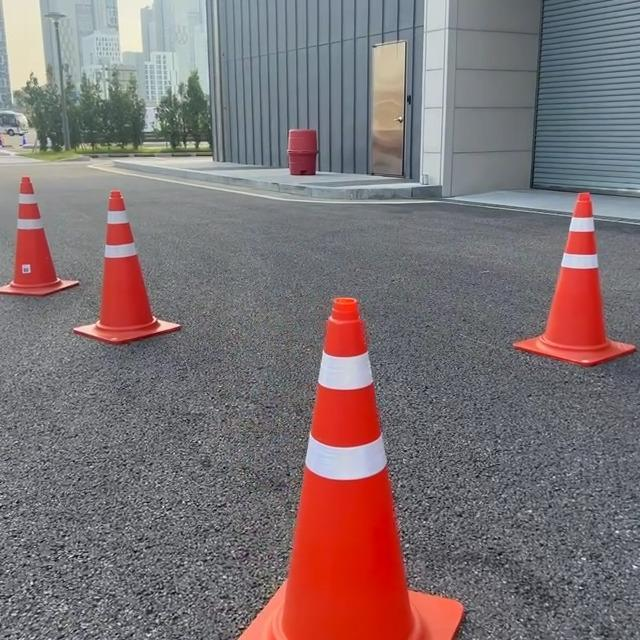fallen_object: (210, 279, 457, 640), (496, 146, 640, 423), (36, 153, 172, 383), (0, 115, 81, 329)
